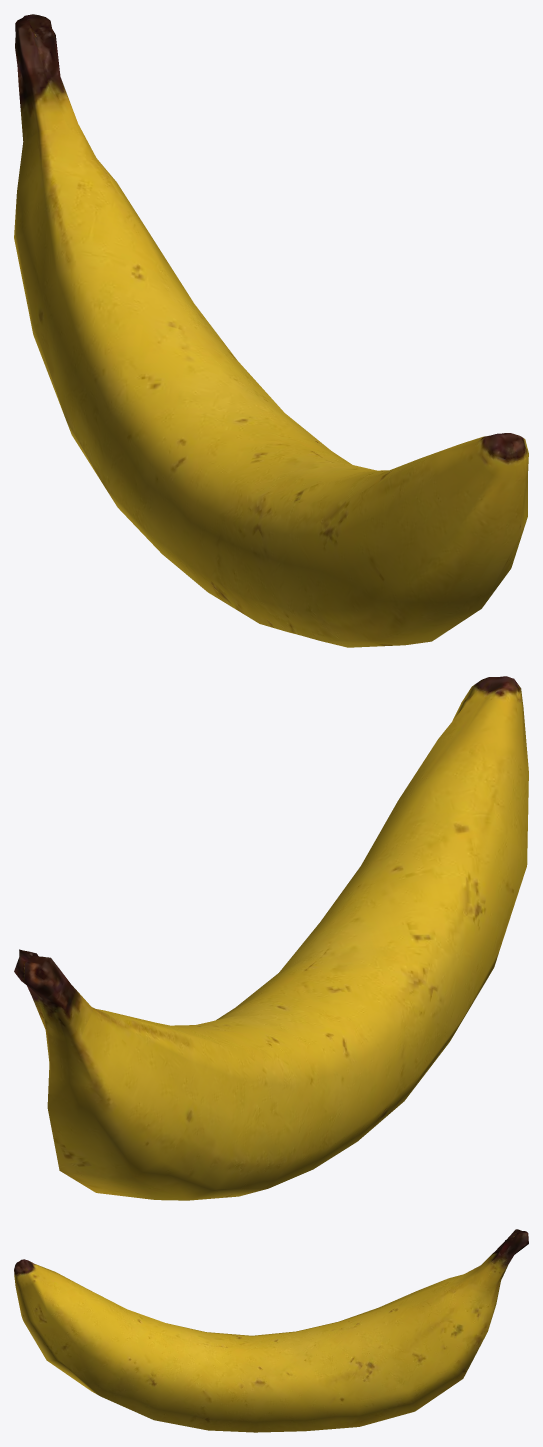
File: banana.glb
The picture shows the model from 3 angles, top to bottom: view 1: azimuth 30°, elevation 25°; view 2: azimuth 150°, elevation 25°; view 3: azimuth 270°, elevation 25°; orthographic projection. The views are drawn at different scales.
Visible parts, largest first — view 1: Banana_PM3D_Cylinder3D_1_2_0; view 2: Banana_PM3D_Cylinder3D_1_2_0; view 3: Banana_PM3D_Cylinder3D_1_2_0.
Boxes of the visible parts, left/top/right/bottom form: Banana_PM3D_Cylinder3D_1_2_0: left=14, top=14, right=528, bottom=647; Banana_PM3D_Cylinder3D_1_2_0: left=14, top=676, right=528, bottom=1200; Banana_PM3D_Cylinder3D_1_2_0: left=14, top=1229, right=528, bottom=1432.
Size of the model in its own units: 0.00357 by 0.00828 by 0.0194.
Materials: 1 (1 with a texture image).
